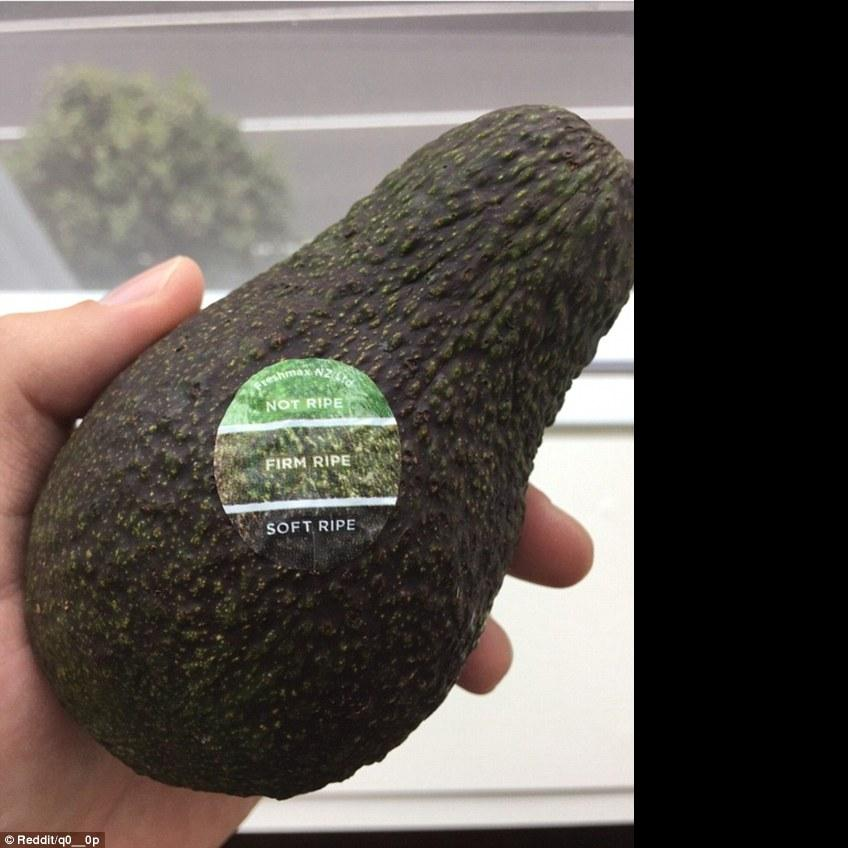ripe: (24, 104, 635, 799)
